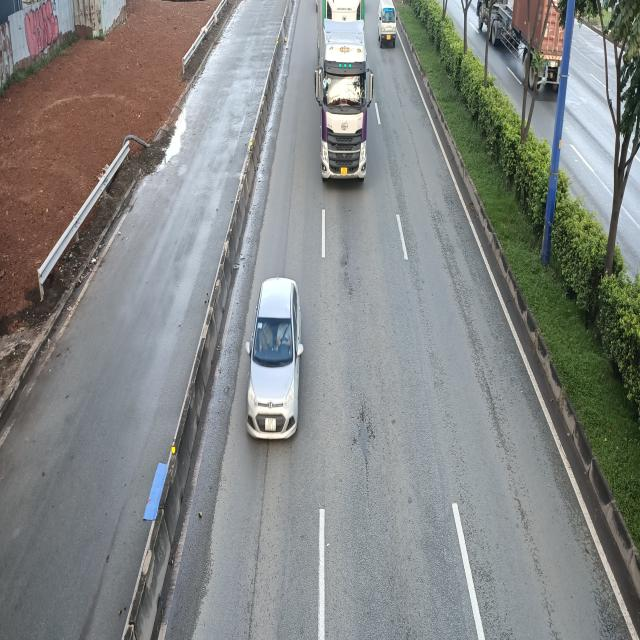car: (249, 278, 305, 443)
container: (317, 1, 375, 182)
van: (377, 0, 398, 47)
